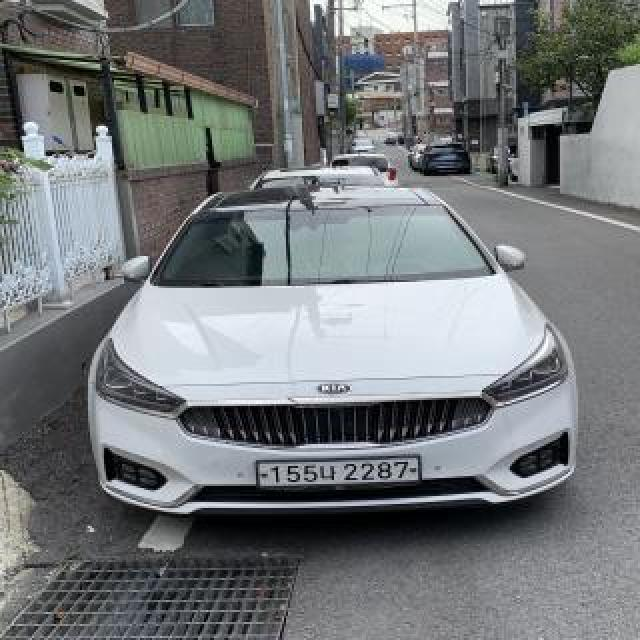car: (84, 182, 586, 524)
illegal_plate: (250, 454, 426, 496)
